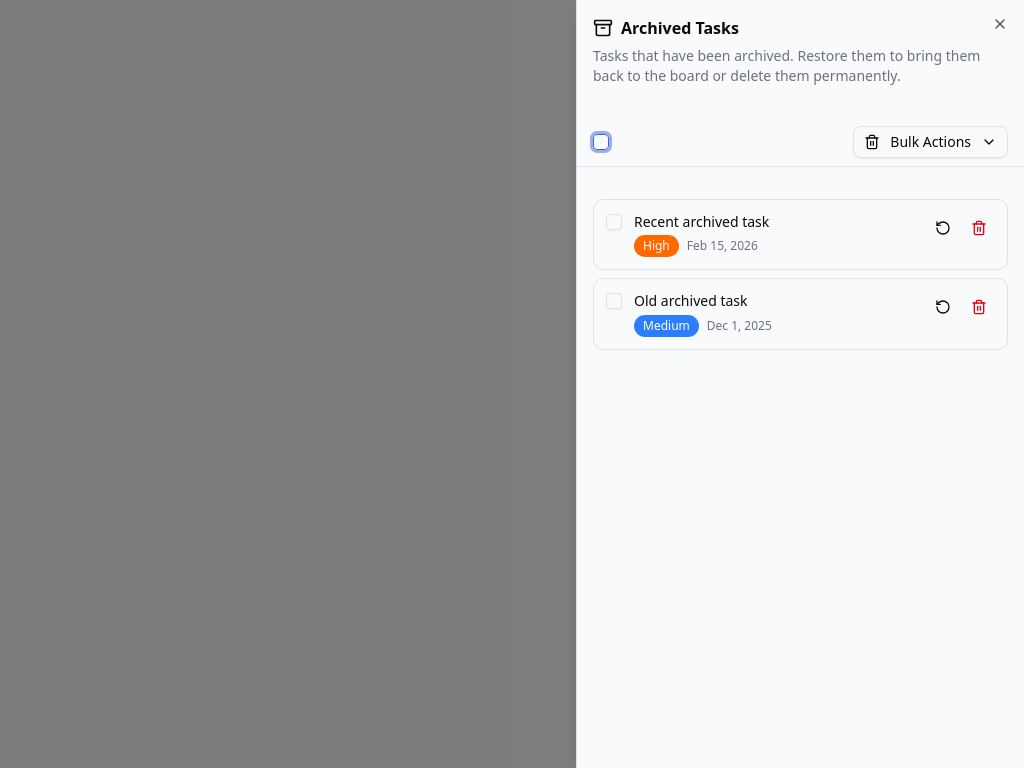
Test: ArchivedTasksSheet › shows selection count in toolbar when tasks selected
Click the checkbox named "Select Recent archived task". click: click(614, 222)
box: x1=606 y1=214 x2=622 y2=230
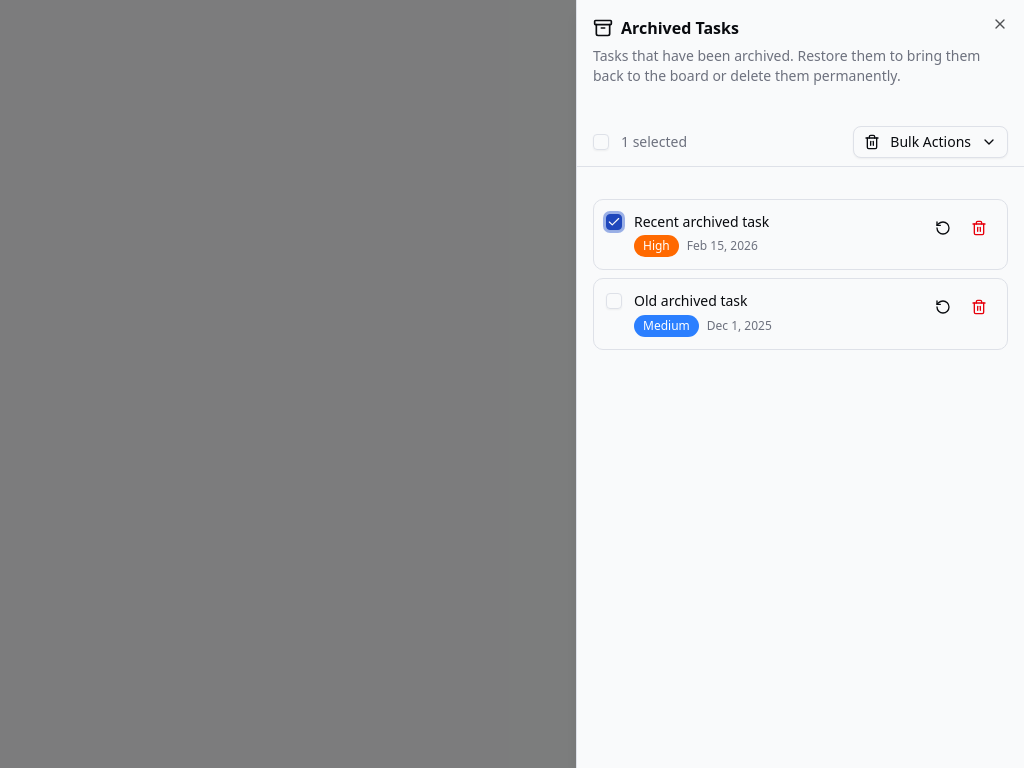
Expected: the text "1 selected" is shown, x1=621 y1=132 x2=687 y2=152
Click the checkbox named "Select Old archived task". click: click(614, 301)
box: x1=606 y1=293 x2=622 y2=309
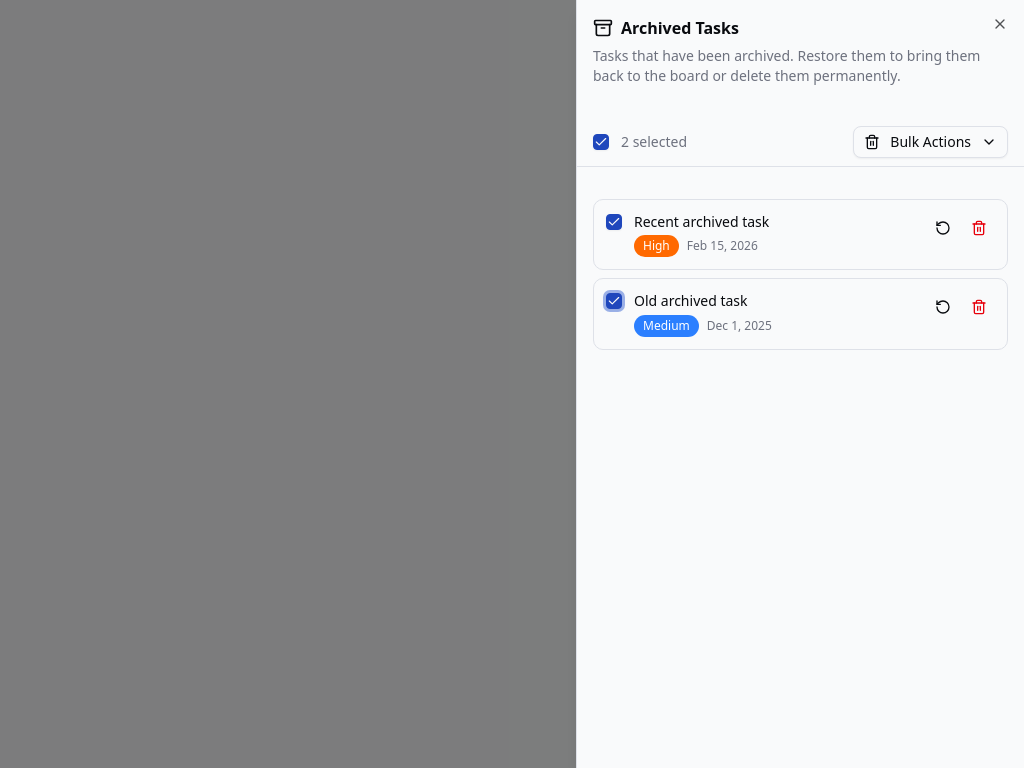
Expected: the text "2 selected" is shown, x1=621 y1=132 x2=687 y2=152
